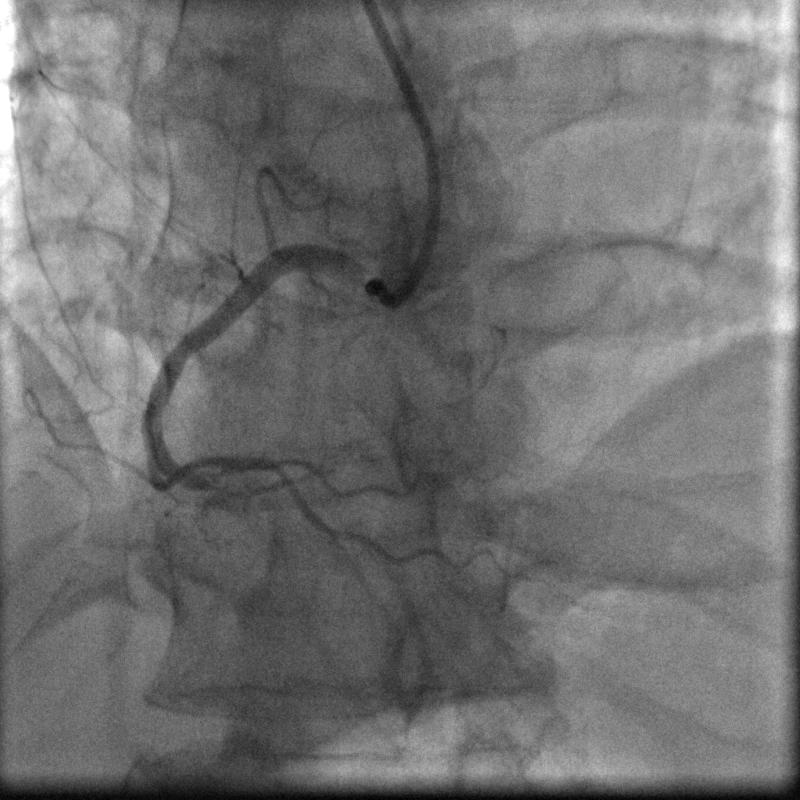Stenosis: (183, 471, 234, 504)
